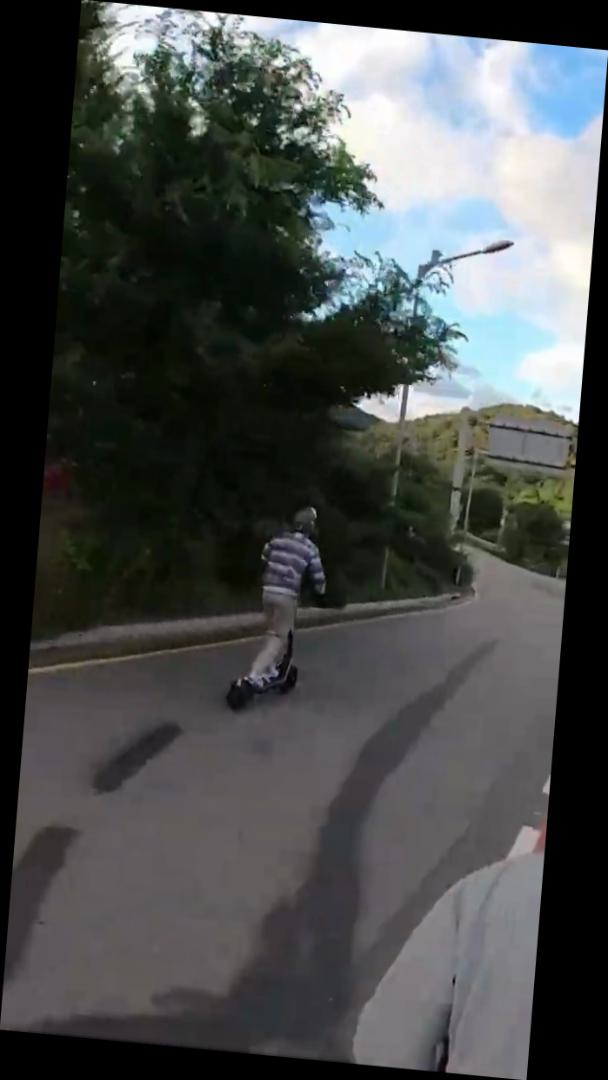helmet: (220, 496, 342, 721)
